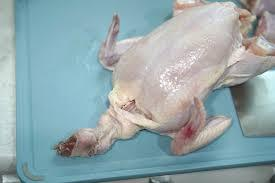chicken: (24, 0, 118, 46)
